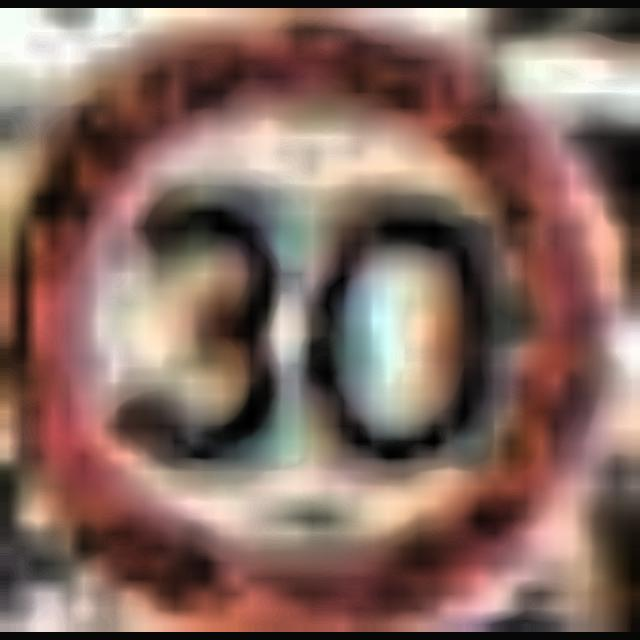speed_30: (0, 9, 624, 608)
